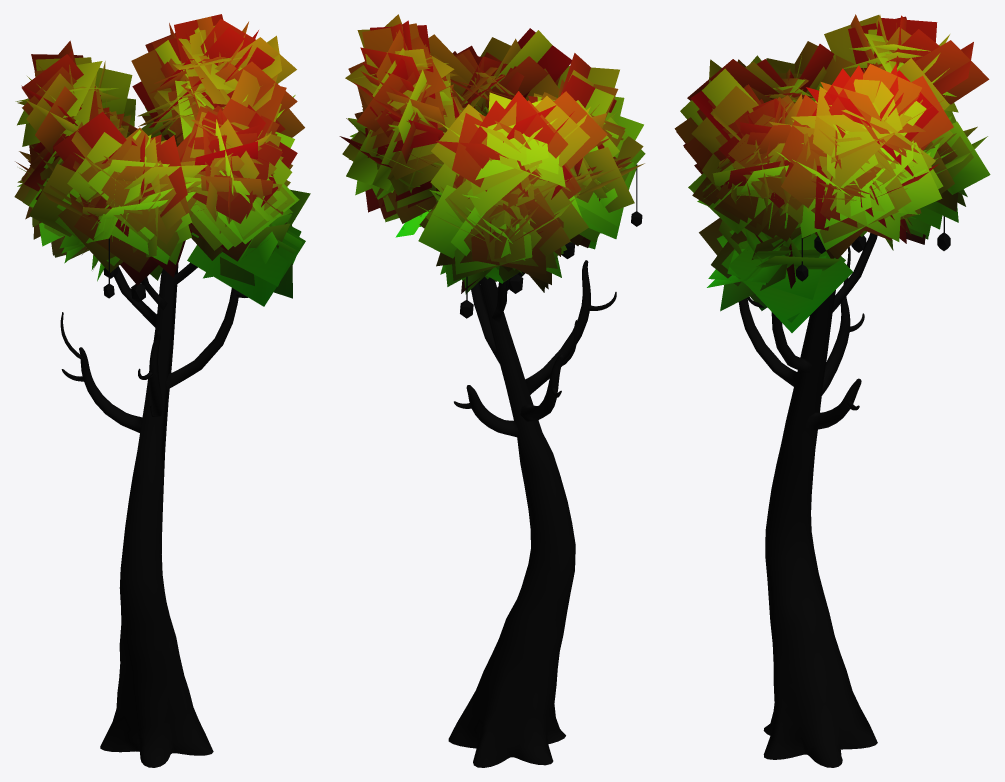
Rendered from env_tree_bg_qt_common_4.fbx.
3 renders of one model, left to right at view 1: azimuth 30°, elevation 25°; view 2: azimuth 150°, elevation 25°; view 3: azimuth 270°, elevation 25°, orthographic. The views are drawn at different scales.
Parts seen in each view (by area): view 1: env_tree_bg_qt_common_4; view 2: env_tree_bg_qt_common_4; view 3: env_tree_bg_qt_common_4.
Part boxes in pixels (x1=…): env_tree_bg_qt_common_4: x1=14, y1=14, x2=310, y2=767; env_tree_bg_qt_common_4: x1=339, y1=14, x2=645, y2=767; env_tree_bg_qt_common_4: x1=674, y1=14, x2=990, y2=767.
Bounding box in the file's own units: 3.83 × 9.44 × 3.76.
